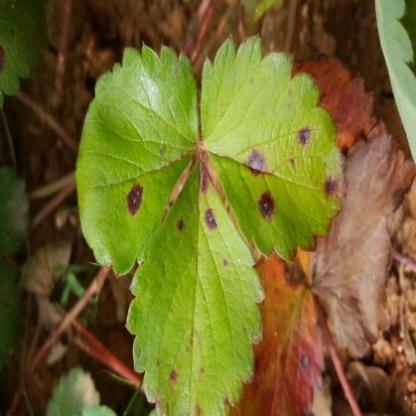Strawberry_Leaf_Spot: (125, 156, 267, 416), (200, 32, 349, 265), (75, 41, 202, 280), (230, 240, 326, 416), (0, 0, 49, 113)
